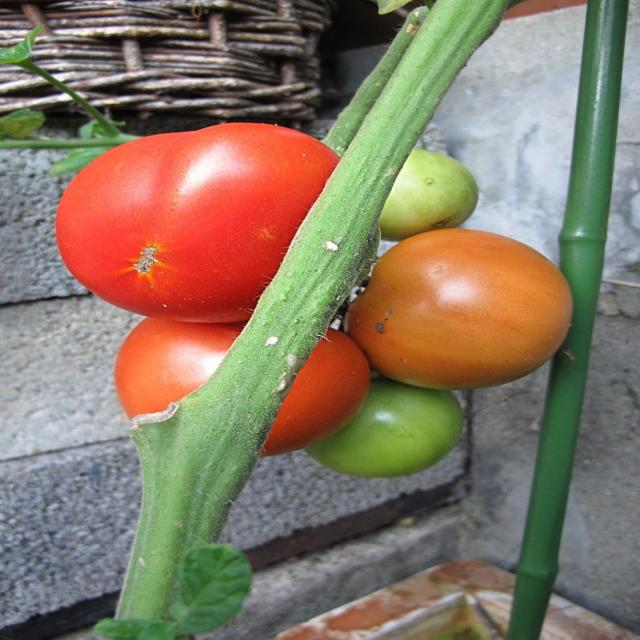level 2: (293, 365, 470, 475), (343, 148, 476, 236)
level 5: (104, 310, 366, 460), (345, 230, 580, 390)
level 6: (51, 122, 354, 324)
